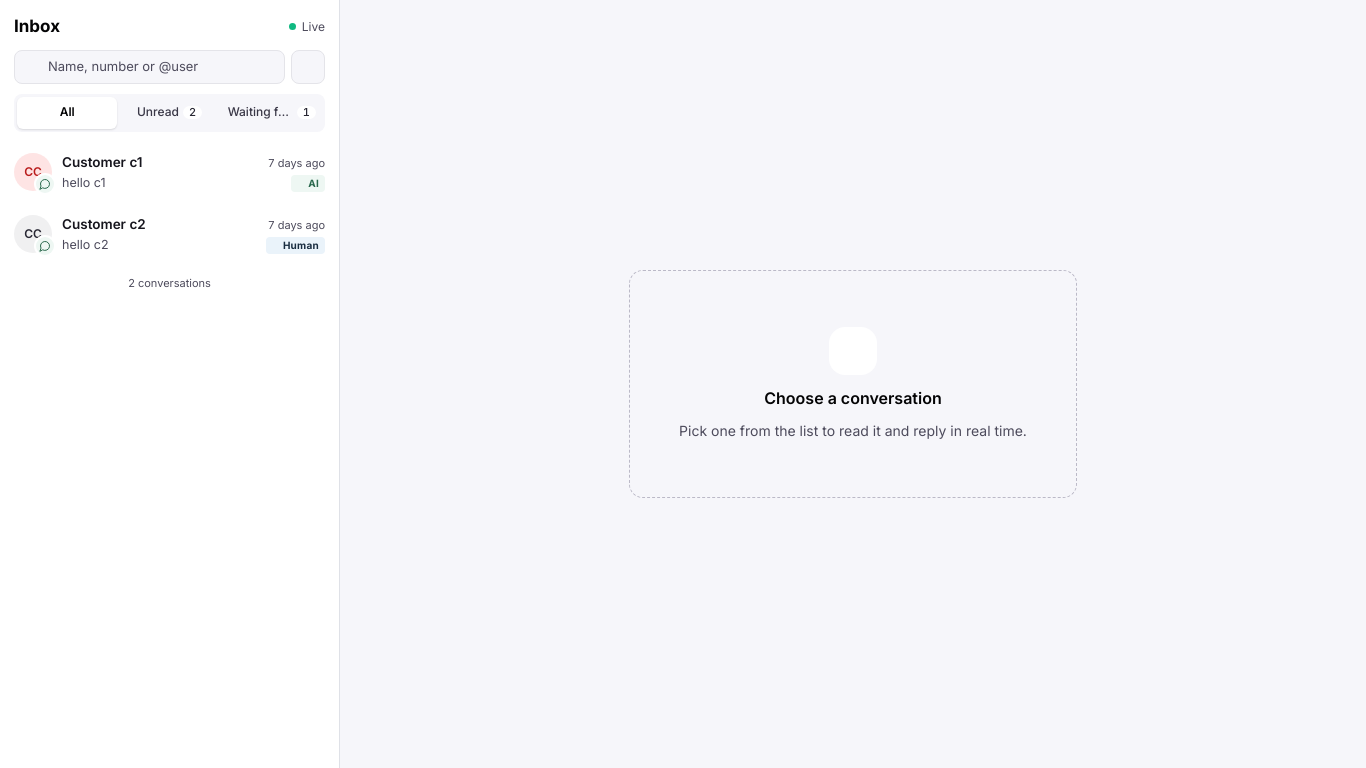
InboxView: list and filters › explains an empty result for the active filters and lets you clear them
This screenshot has width=1366, height=768.
Click the button "Waiting for team 1".
click(272, 112)  # box [222,96,322,128]
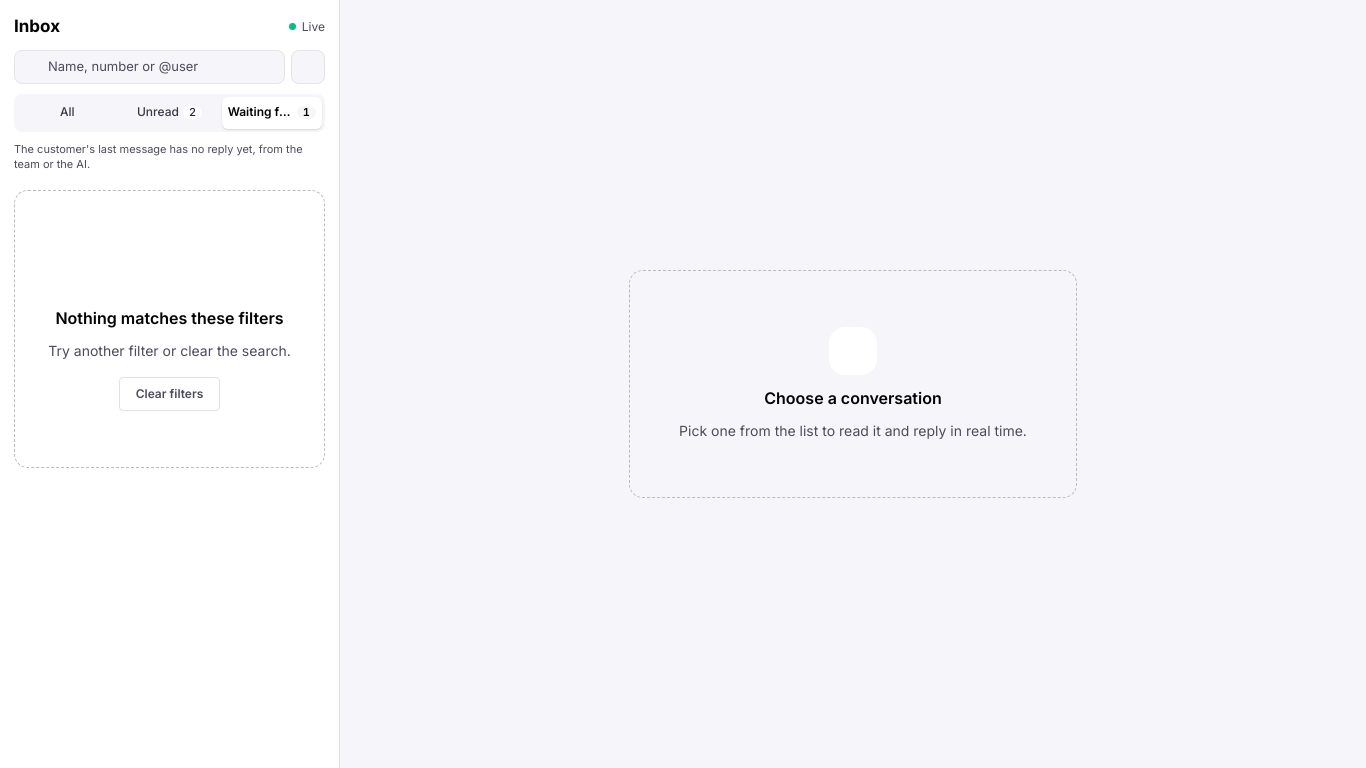
Check: the heading "Nothing matches these filters" is shown, box [56,307,284,329]
Click the button "Clear filters".
click(170, 394)  # box [119,377,220,411]
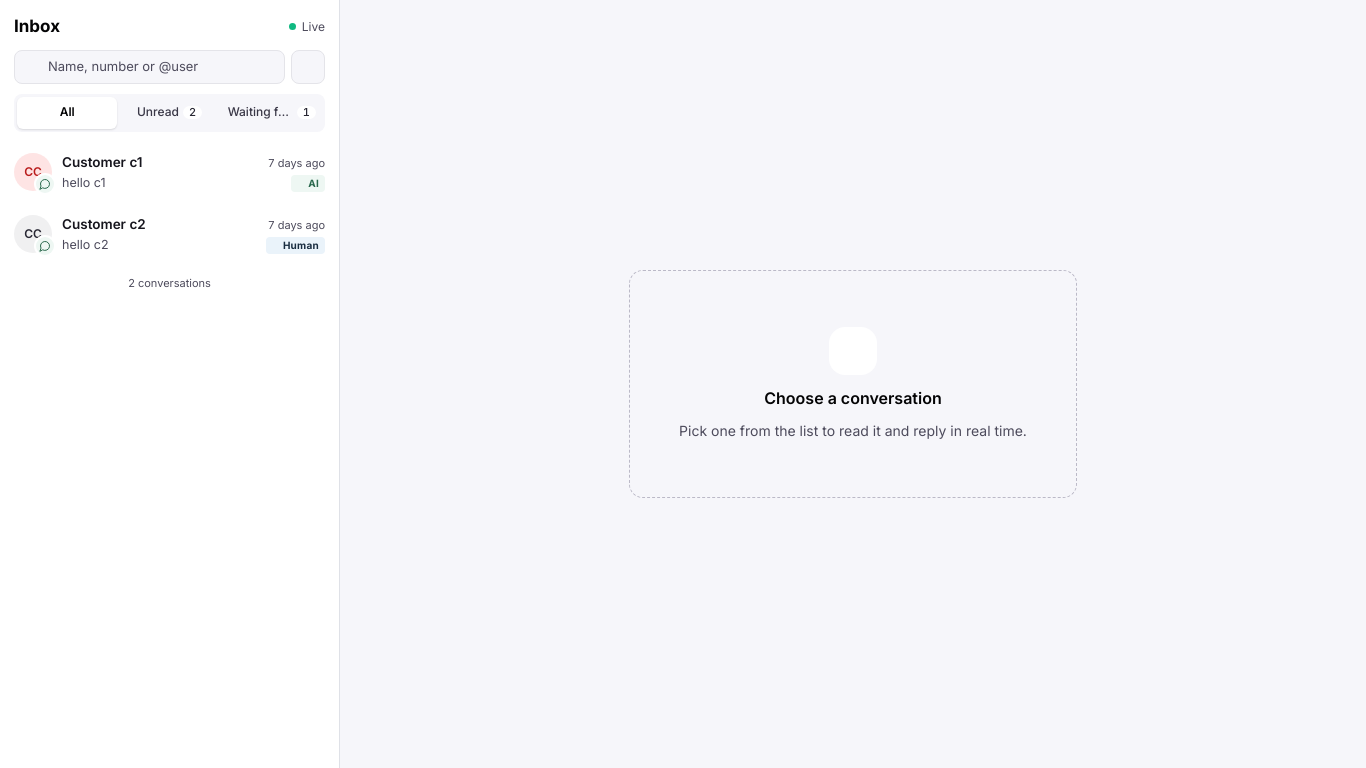
Check: the text "Customer c1" is shown, box [62,154,142,170]
